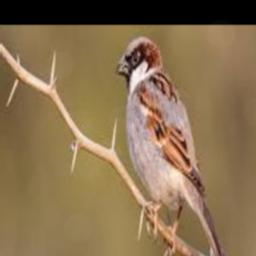Sparrow: (115, 35, 228, 256)
